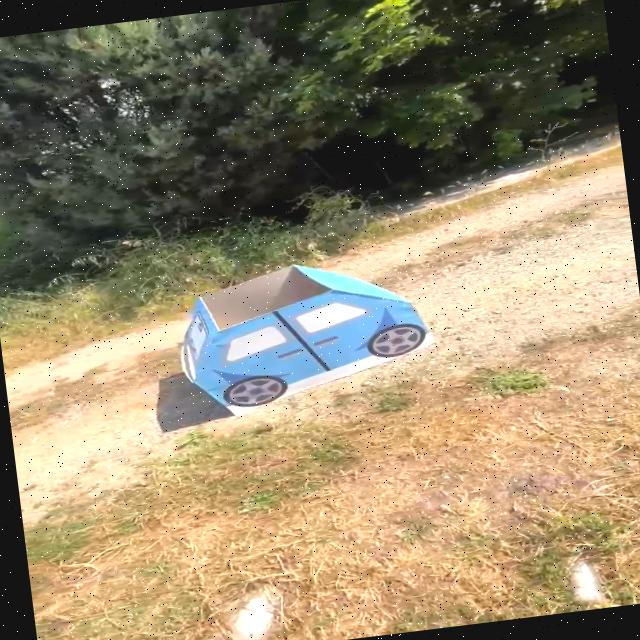blue_car: (156, 232, 456, 454)
